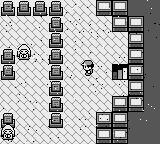main: (82, 60, 94, 76)
no-caminable: (1, 0, 64, 128), (95, 0, 144, 143), (128, 0, 160, 143), (0, 49, 15, 80), (0, 112, 14, 128)
npc: (17, 45, 32, 60), (1, 125, 16, 140)
puerta: (112, 64, 128, 80)
